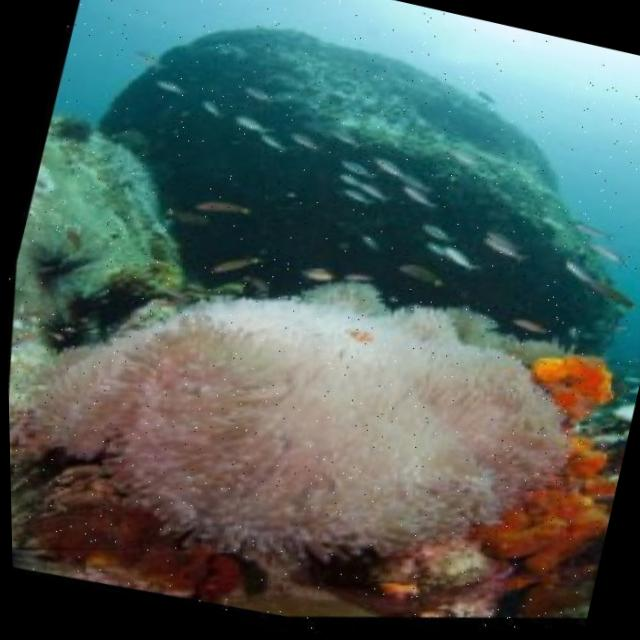Bleached Coral: (3, 142, 640, 640)
